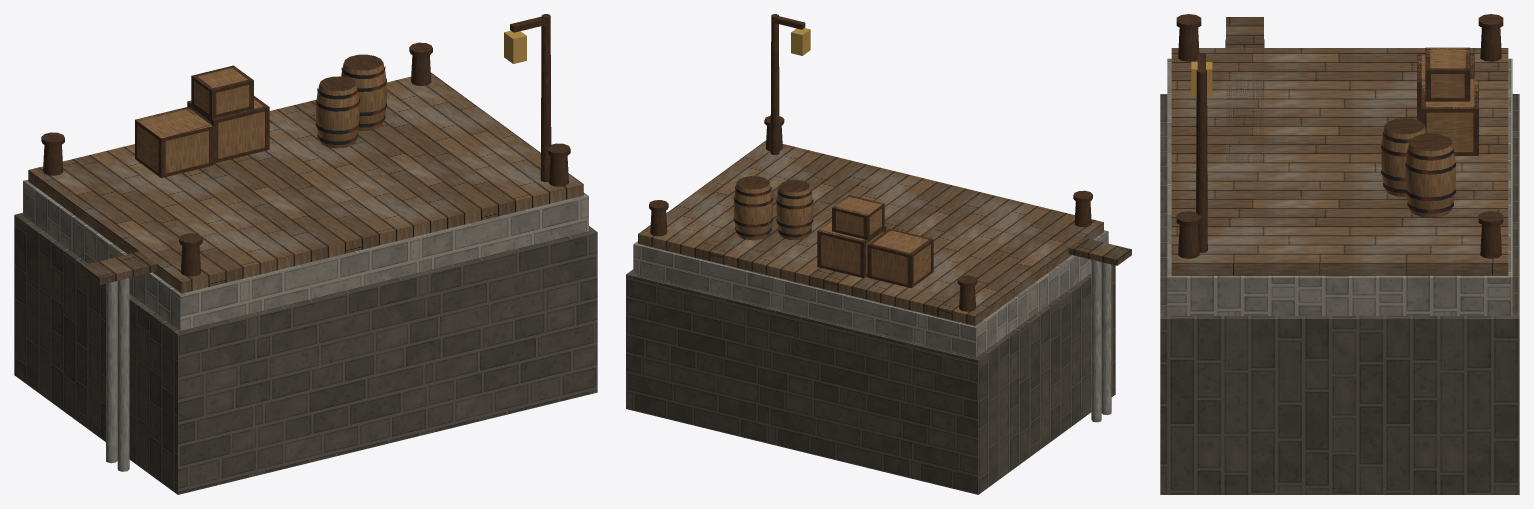
Rendered from SM_Art_GalleonCoveJetty.gltf.
The picture shows the model from 3 angles, left to right: view 1: azimuth 30°, elevation 25°; view 2: azimuth 150°, elevation 25°; view 3: azimuth 270°, elevation 25°; orthographic projection. The views are drawn at different scales.
Parts seen in each view (by area): view 1: SM_Art_GalleonCoveJetty; view 2: SM_Art_GalleonCoveJetty; view 3: SM_Art_GalleonCoveJetty.
Boxes of the visible parts, x1=… form: SM_Art_GalleonCoveJetty: x1=14, y1=14, x2=597, y2=494; SM_Art_GalleonCoveJetty: x1=626, y1=14, x2=1131, y2=494; SM_Art_GalleonCoveJetty: x1=1160, y1=14, x2=1519, y2=494.
Bounding box in the file's own units: 6.88 × 5.2 × 4.16.
9 materials, 8 textured.
